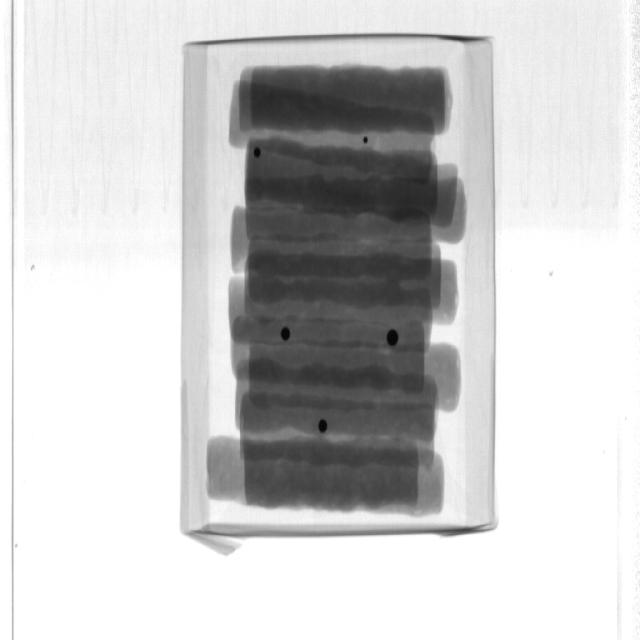ym: (388, 328, 400, 346), (319, 419, 329, 434), (282, 328, 291, 341), (254, 148, 262, 158), (364, 138, 370, 145)
